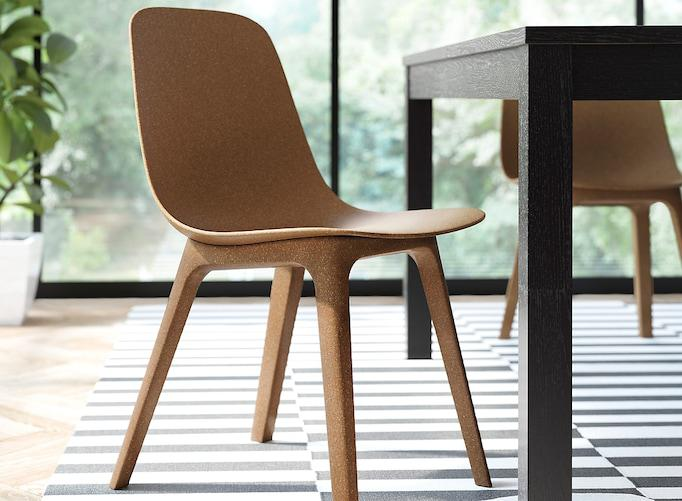chair: (99, 6, 499, 500), (497, 41, 682, 356)
